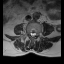CCS_normal: (32, 30, 34, 39)
LFS_normal: (36, 31, 38, 37)
LLS_normal: (34, 30, 36, 38)
RFS_normal: (28, 30, 30, 36)
RLS_normal: (30, 31, 32, 37)
